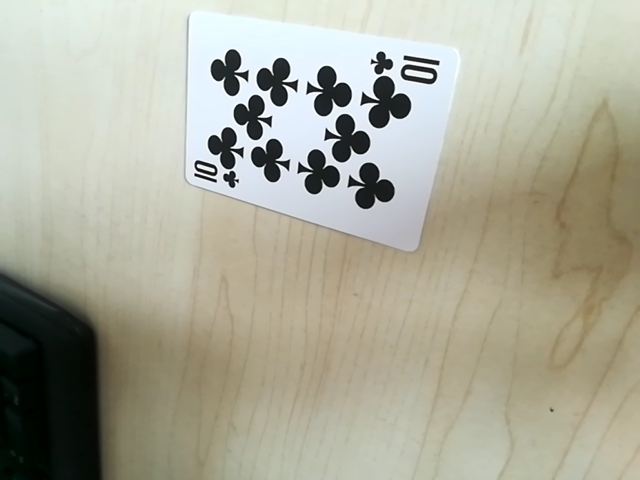mh 10: (371, 50, 447, 84), (190, 160, 240, 193)
